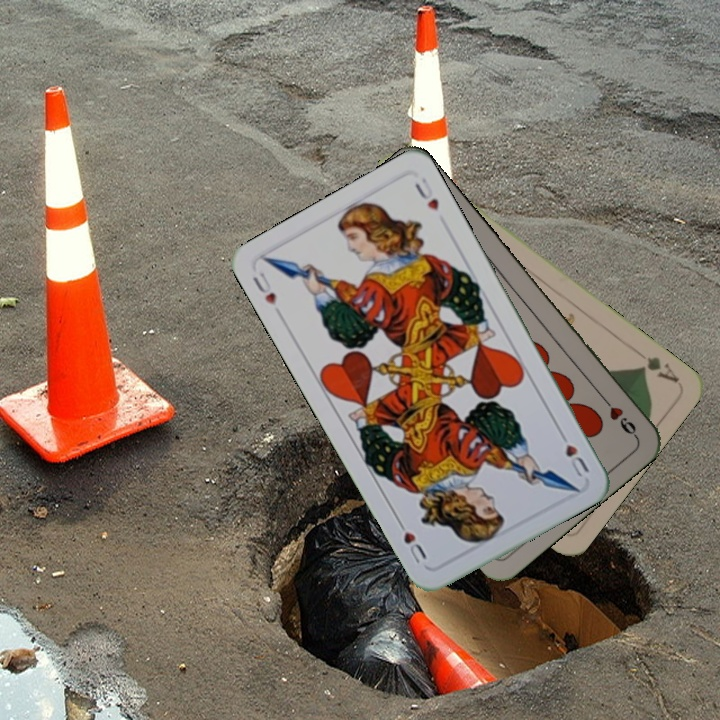GA: (635, 352, 682, 386)
H9: (596, 391, 640, 440)
HU: (554, 427, 592, 480), (248, 268, 279, 308)
